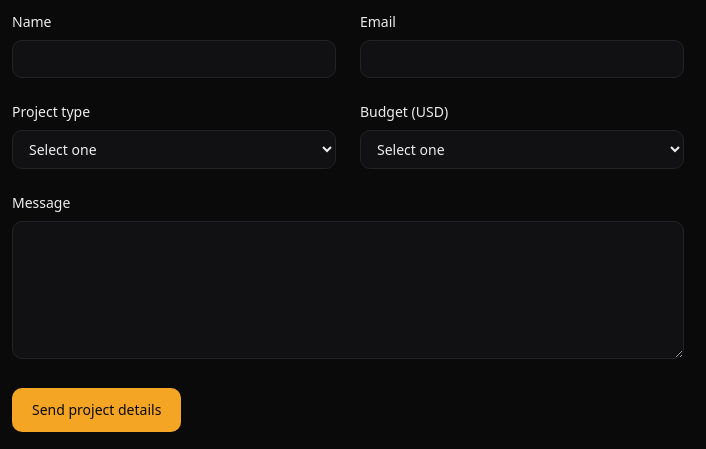
Test case: ContactForm › shows the rate-limit message on a 429
Step 1. Type "Test User" into the field labelled "Name" → (174, 59), box [12,40,336,78]
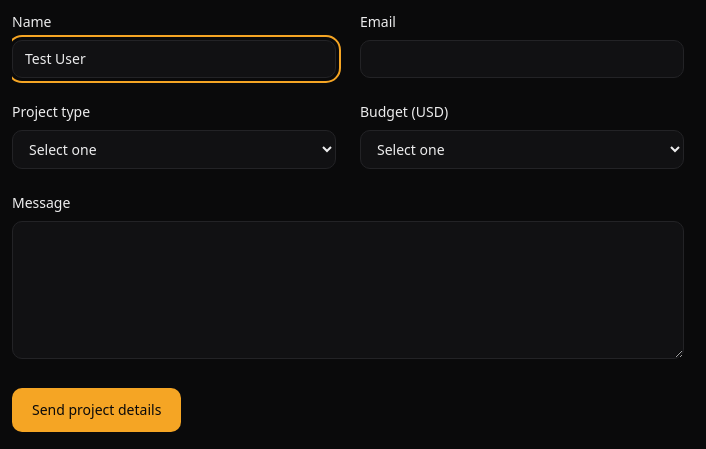
Step 2. Type "test@example.com" into the field labelled "Email" → (522, 59), box [360,40,684,78]
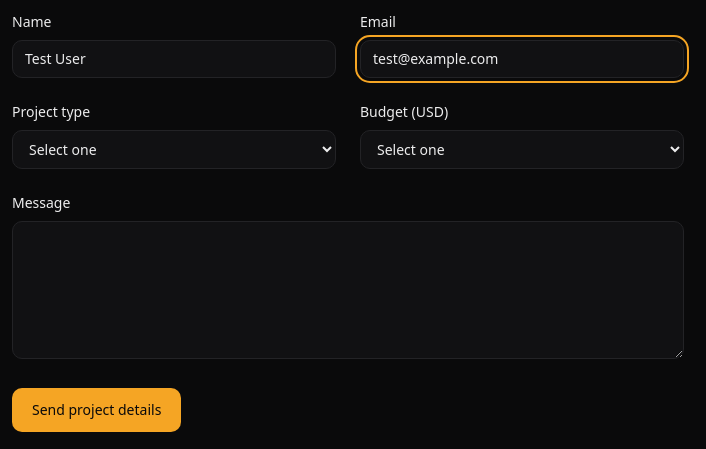
Step 3. Select "Web scraping" in the dropdown labelled "Project type" → (174, 150), box [12,130,336,169]
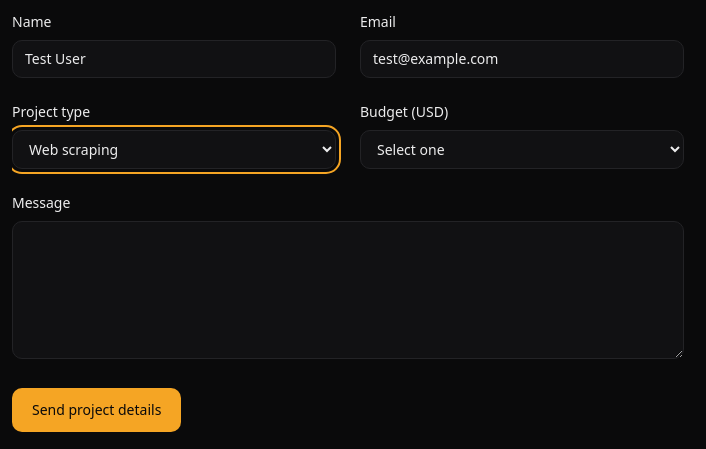
Step 4. Select "Not sure yet" in the dropdown labelled "Budget (USD)" → (522, 150), box [360,130,684,169]
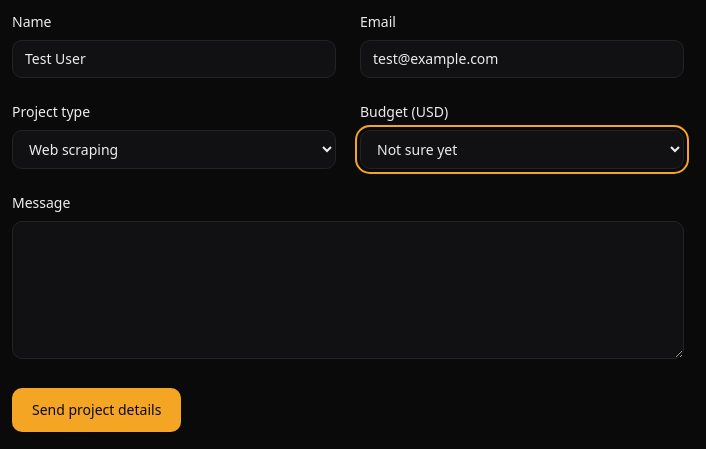
Step 5. Type "I need data from a website." into the text box labelled "Message" → (348, 290), box [12,221,684,359]
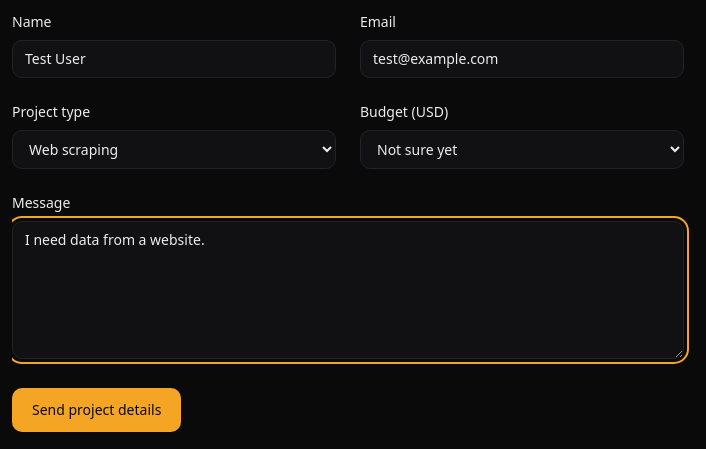
Step 6. Click the button "Send project details" → (97, 410), box [12,388,181,432]
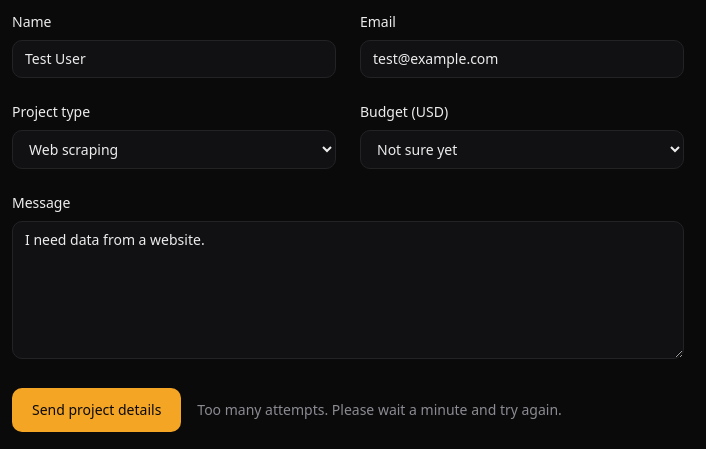
Check: the text "Too many attempts. Please wait a minute and try again." is shown, box [197,400,562,420]
